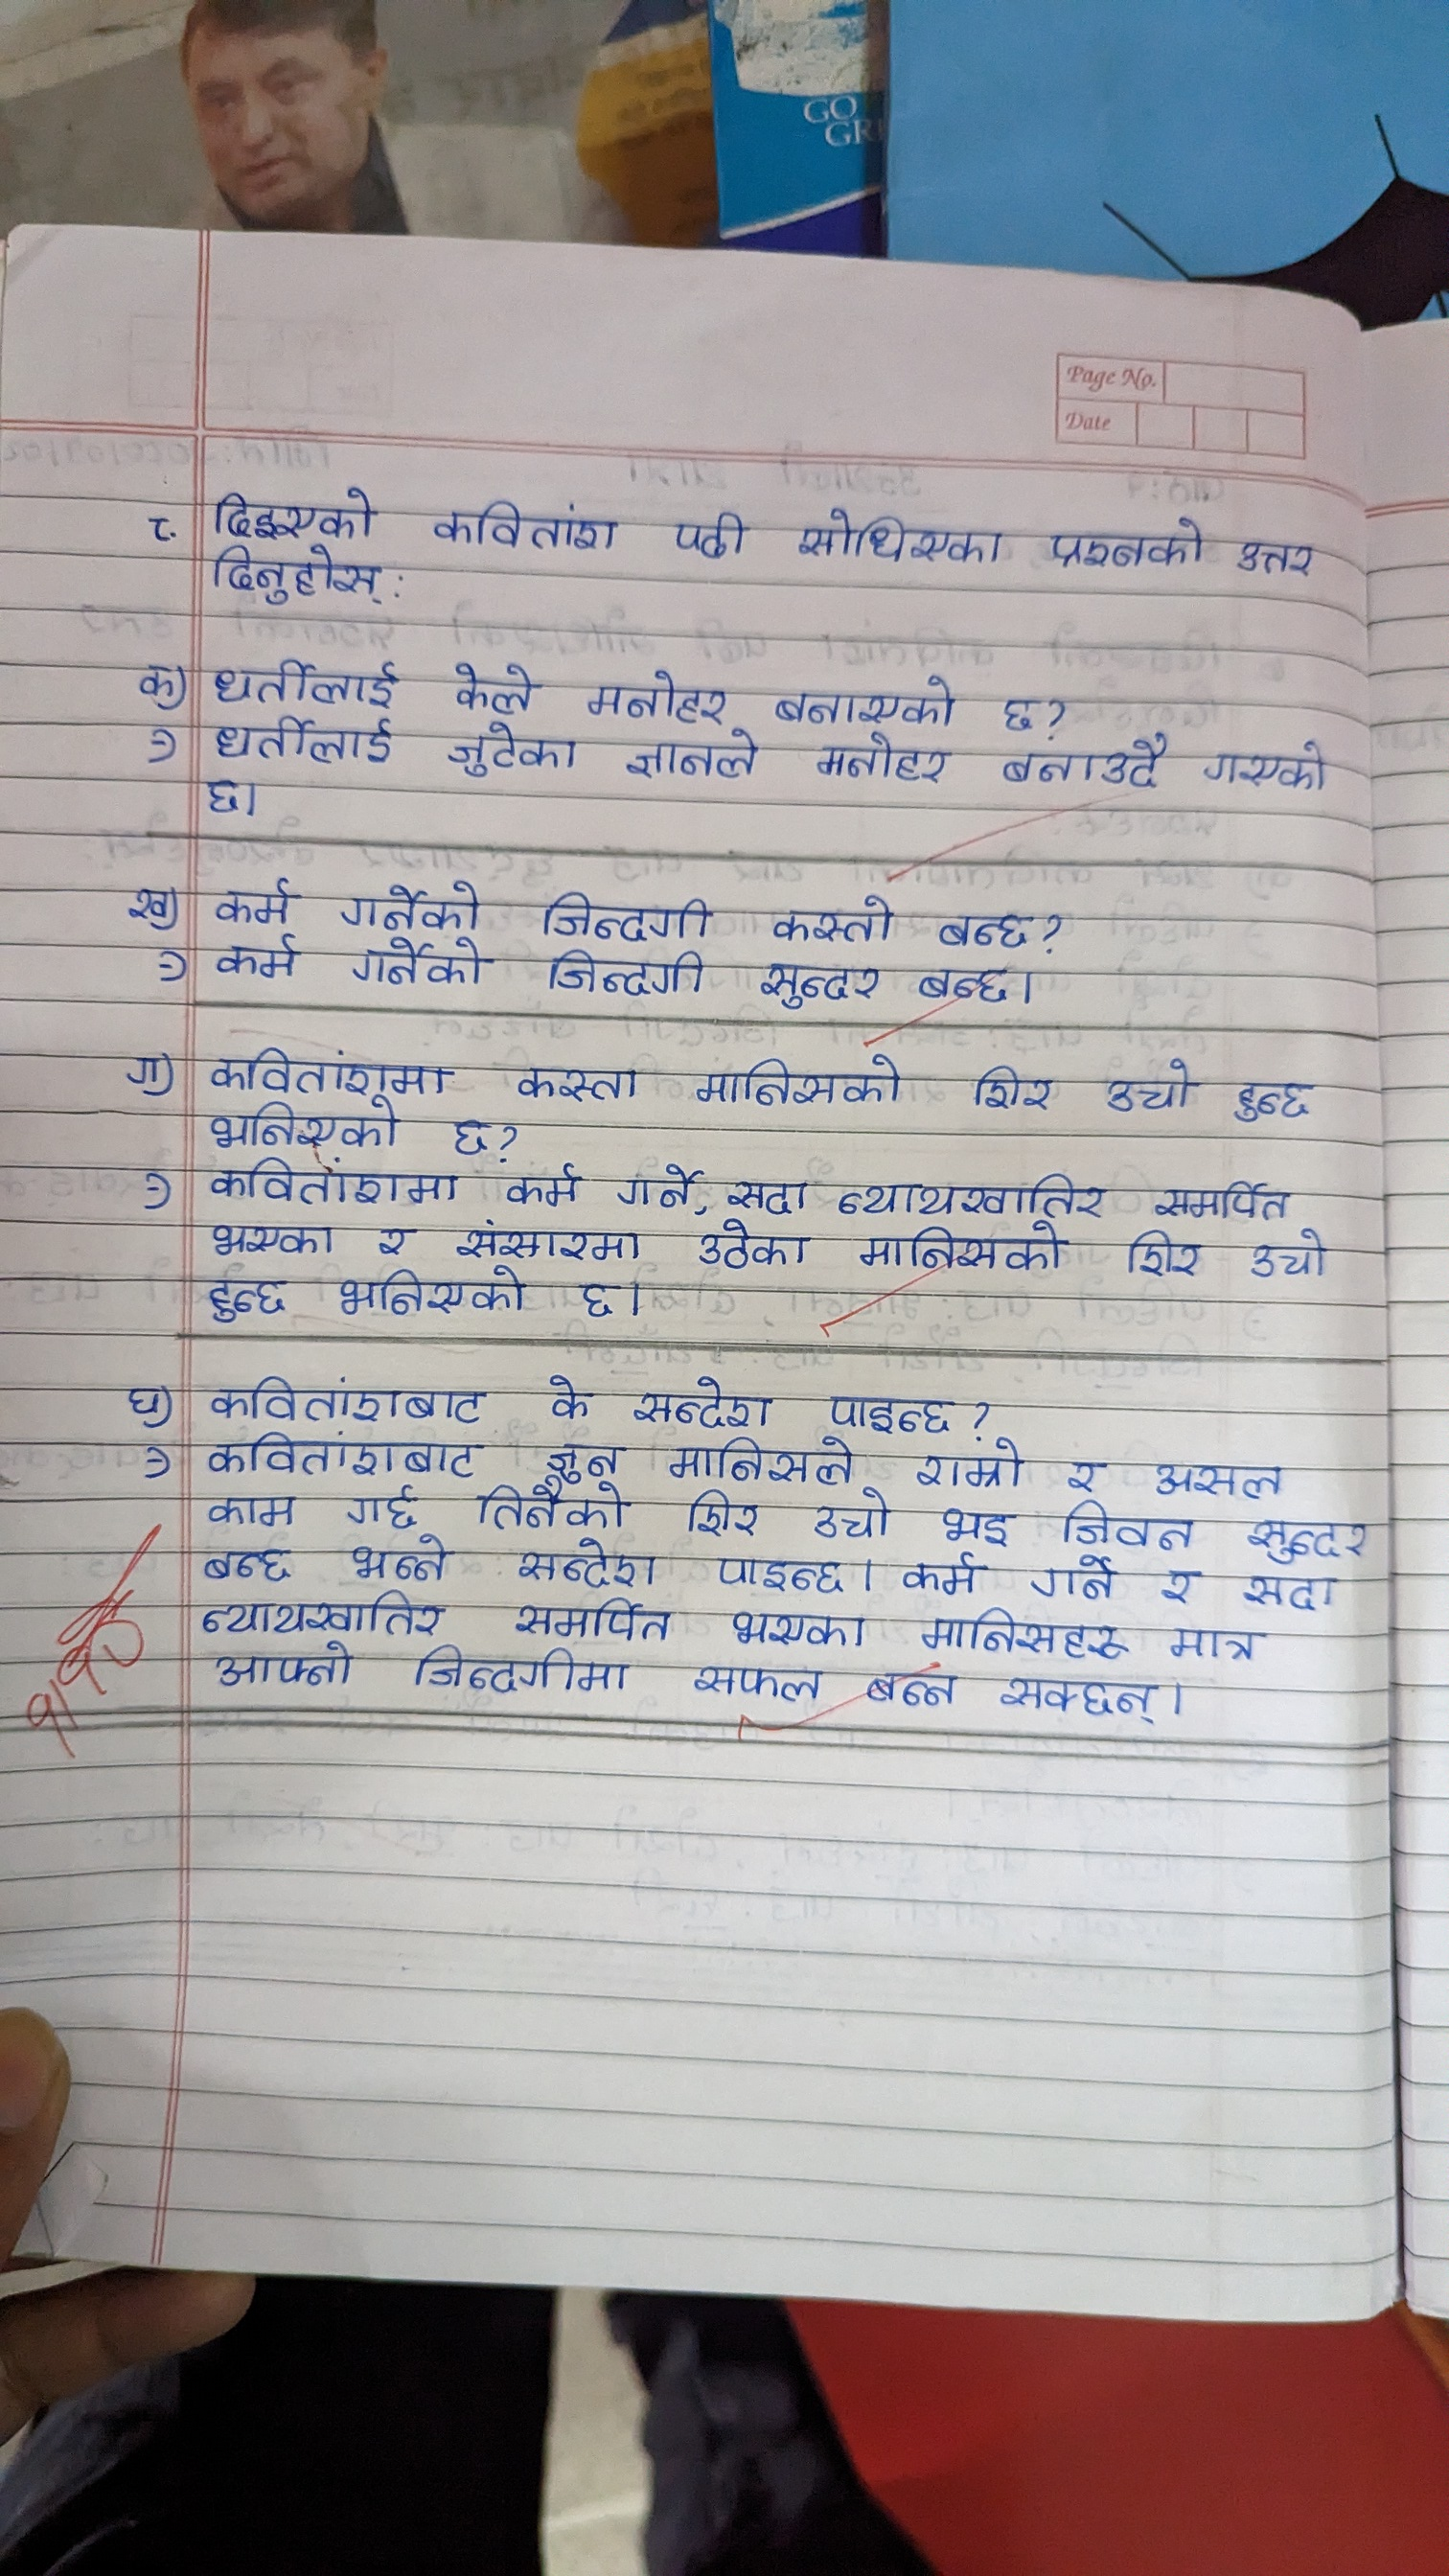text: (1030, 494, 1217, 580), (198, 1035, 456, 1097), (426, 492, 640, 566), (786, 499, 1001, 566), (203, 1375, 485, 1424), (686, 1046, 909, 1108), (830, 1173, 1113, 1221), (207, 1159, 458, 1210), (205, 1431, 478, 1477), (205, 648, 402, 709), (200, 545, 395, 605), (853, 1223, 1072, 1276), (536, 885, 718, 947), (202, 1594, 455, 1638), (334, 1269, 529, 1325), (771, 663, 957, 722), (1001, 736, 1171, 800), (909, 1610, 1125, 1660), (205, 1102, 405, 1155), (203, 479, 384, 538), (410, 1649, 623, 1698), (1198, 727, 1339, 800), (446, 1217, 648, 1267), (209, 715, 400, 766), (582, 665, 741, 725), (533, 947, 704, 1001), (810, 727, 955, 789), (996, 1675, 1166, 1727), (669, 1442, 853, 1488), (212, 1642, 372, 1695), (750, 957, 893, 1016), (1056, 1502, 1201, 1559), (628, 1373, 771, 1430), (1145, 1447, 1300, 1499), (442, 724, 580, 780), (623, 732, 759, 789), (1145, 1171, 1297, 1221), (338, 879, 485, 931), (513, 1539, 658, 1591), (471, 1486, 628, 1532), (773, 886, 893, 947), (511, 1596, 667, 1642), (717, 1546, 853, 1598), (1215, 1062, 1323, 1125), (350, 938, 488, 987), (688, 1660, 833, 1706), (502, 1049, 635, 1099), (925, 902, 1051, 954), (200, 1212, 345, 1256), (1246, 1513, 1375, 1562), (1223, 531, 1327, 591), (823, 1391, 955, 1437), (692, 1224, 810, 1276), (720, 1608, 872, 1647), (193, 1277, 297, 1332), (1120, 1230, 1214, 1290), (1106, 1053, 1194, 1115), (453, 653, 536, 713), (909, 961, 1010, 1008), (207, 876, 301, 927), (1246, 1230, 1336, 1283), (968, 1060, 1056, 1113), (1238, 1568, 1339, 1614), (211, 929, 297, 982), (913, 1444, 1021, 1486), (349, 1534, 448, 1580), (607, 1162, 697, 1212), (812, 1490, 892, 1545), (683, 1488, 768, 1537), (200, 1490, 303, 1530), (195, 1545, 301, 1583), (858, 1670, 966, 1707), (538, 1437, 630, 1479), (1030, 1560, 1120, 1603), (504, 1161, 580, 1210), (676, 510, 747, 563), (904, 1553, 987, 1598), (722, 1173, 810, 1214), (341, 1481, 418, 1527), (936, 1504, 1016, 1546), (1164, 1628, 1269, 1660), (129, 649, 184, 706), (131, 495, 179, 559), (533, 1373, 591, 1424), (435, 1106, 495, 1155), (120, 1039, 173, 1093), (127, 876, 170, 931), (991, 686, 1039, 732), (200, 771, 249, 816), (579, 1274, 619, 1327), (124, 1384, 168, 1430), (370, 1217, 410, 1263), (1062, 1456, 1104, 1490), (1161, 1568, 1194, 1606)
